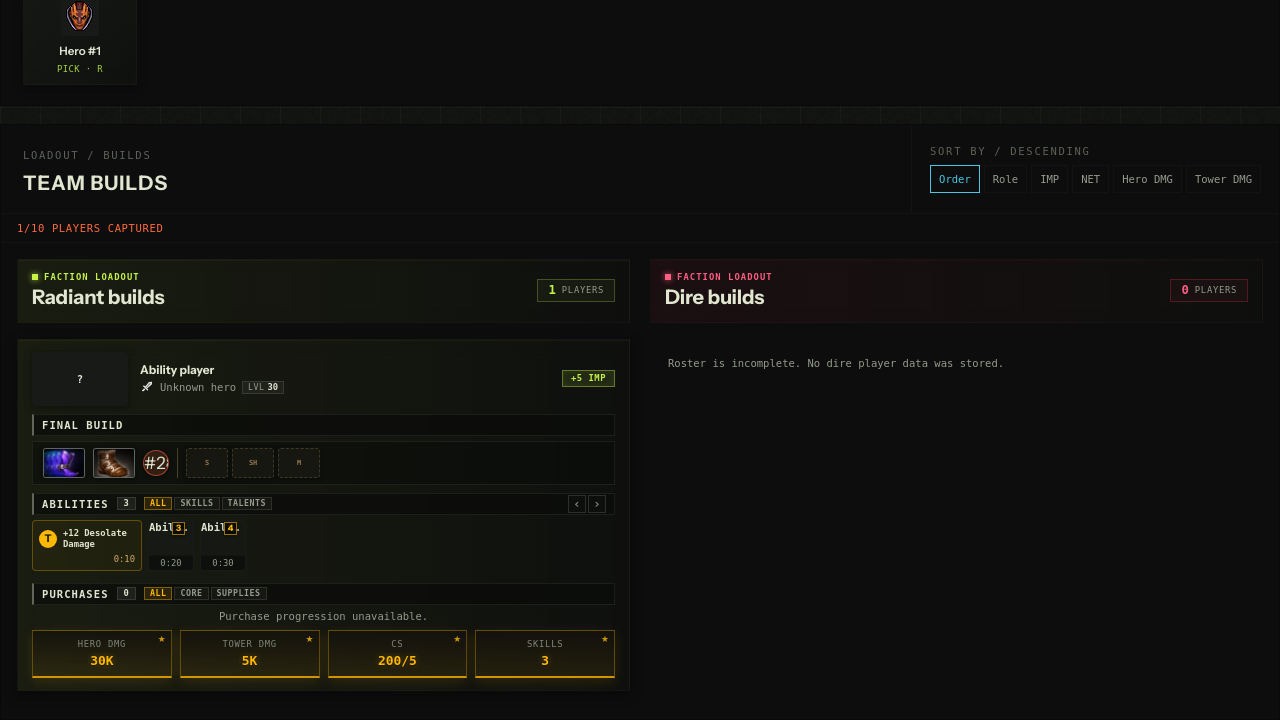
Test: MatchDetailView › filters ability progression into all, skills, and talents
(page scrolled)
Expected: the text "ABILITIES" is shown, [42, 498, 109, 510]
Expected: the text with class "build-timeline__count" next to "ABILITIES" reads "3", [124, 498, 129, 508]
Click the button "SKILLS".
click(197, 503)  # box [174, 497, 220, 510]
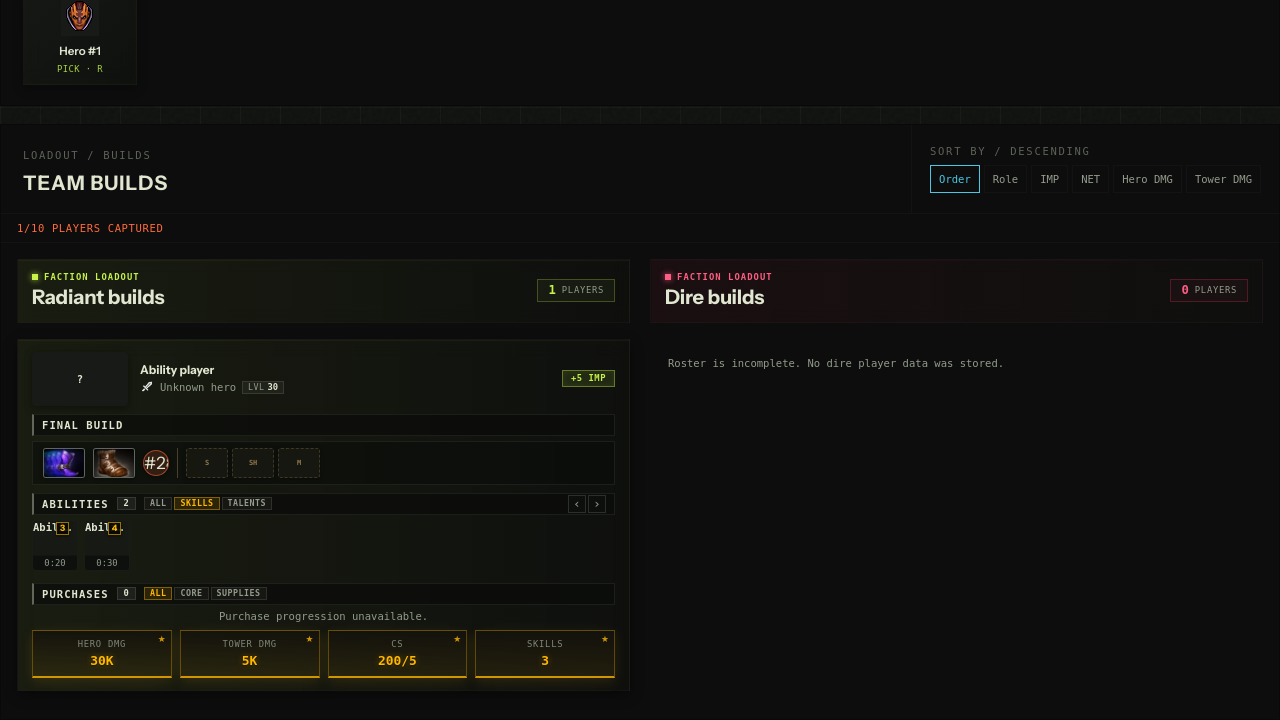
Expected: the text with class "build-timeline__count" reads "2", [124, 498, 129, 508]
Click the button "TALENTS".
click(247, 503)  # box [222, 497, 272, 510]
(page scrolled)
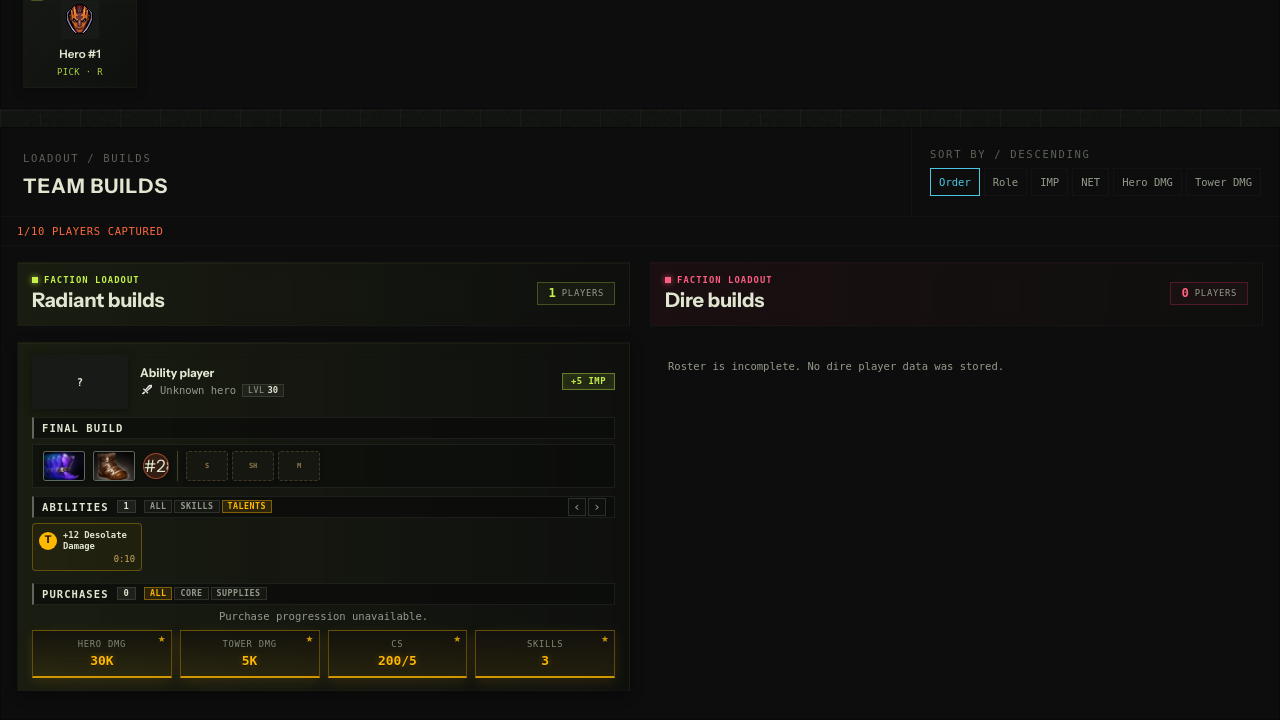
Expected: the text with class "build-timeline__count" next to "ABILITIES" reads "1", [124, 501, 129, 511]
Click the button "ALL" in the row of "ABILITIES".
click(158, 506)  # box [144, 500, 172, 513]
(page scrolled)
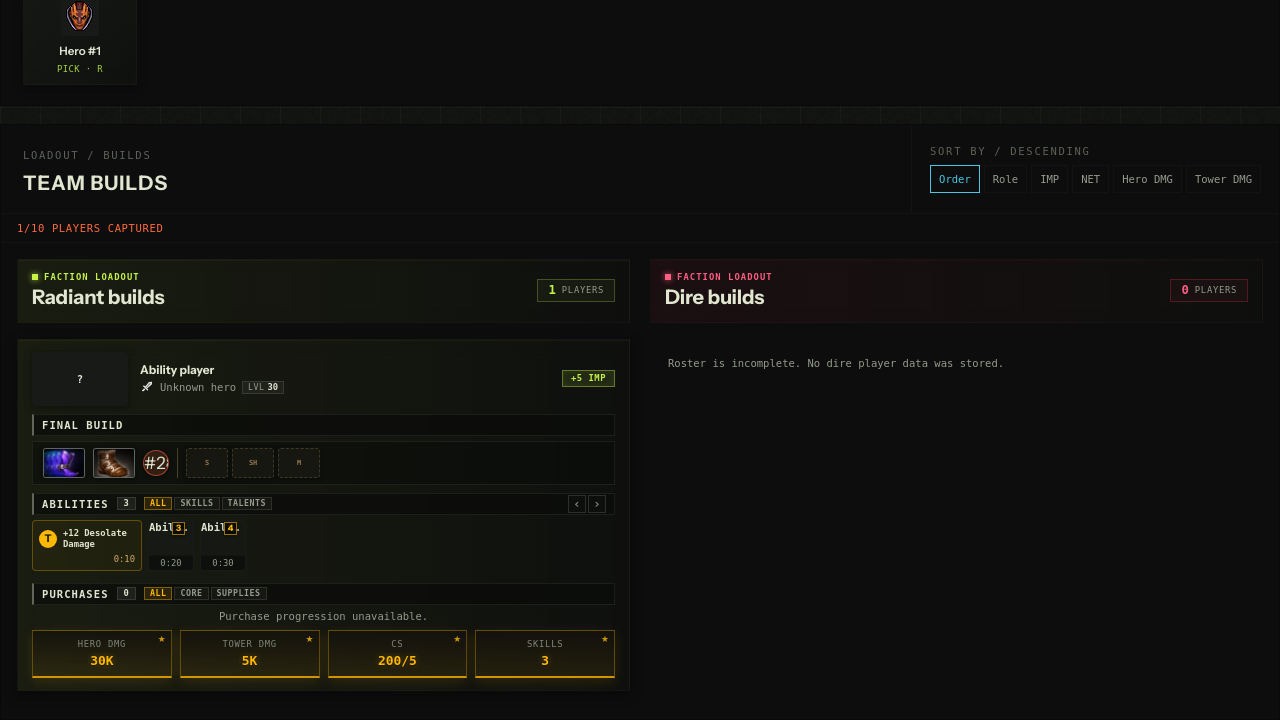
Expected: the text with class "build-timeline__count" next to "ABILITIES" reads "3", [124, 498, 129, 508]
